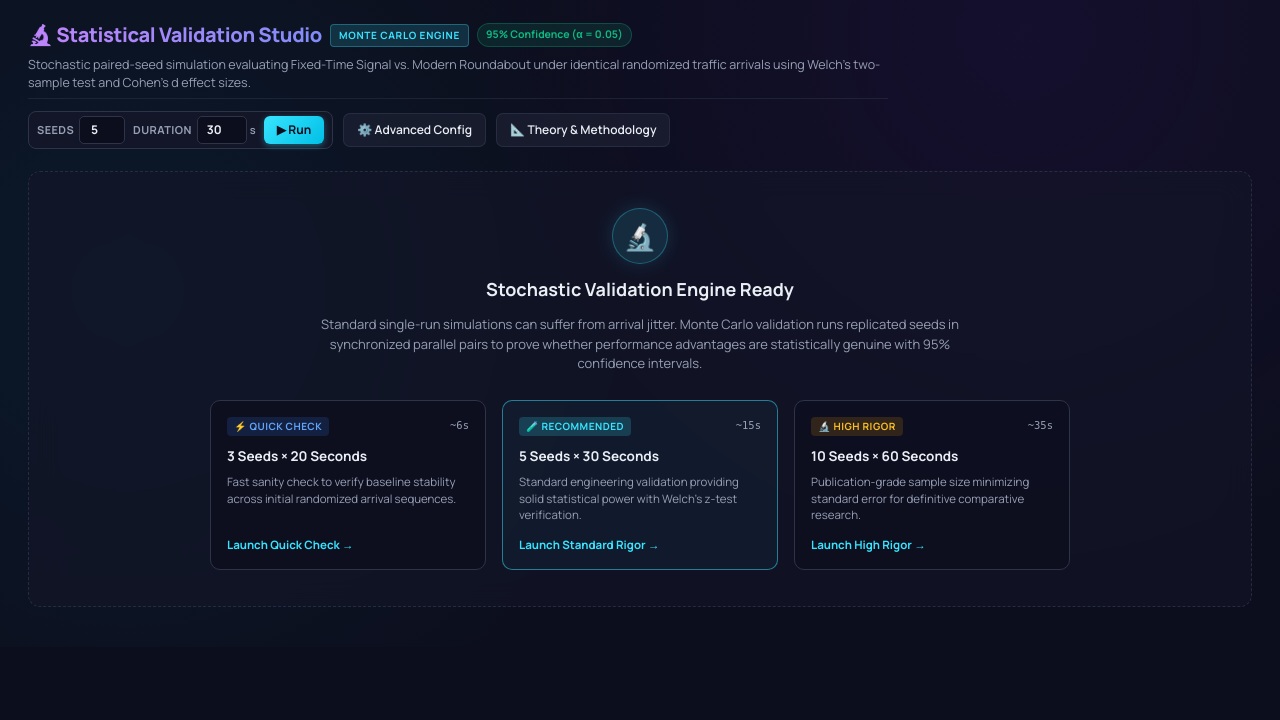
Scenario: ValidationDashboard › shows loading state after clicking Run Validation
Click the button titled "Execute Monte Carlo validation": [294, 130] box [264,116,324,144]
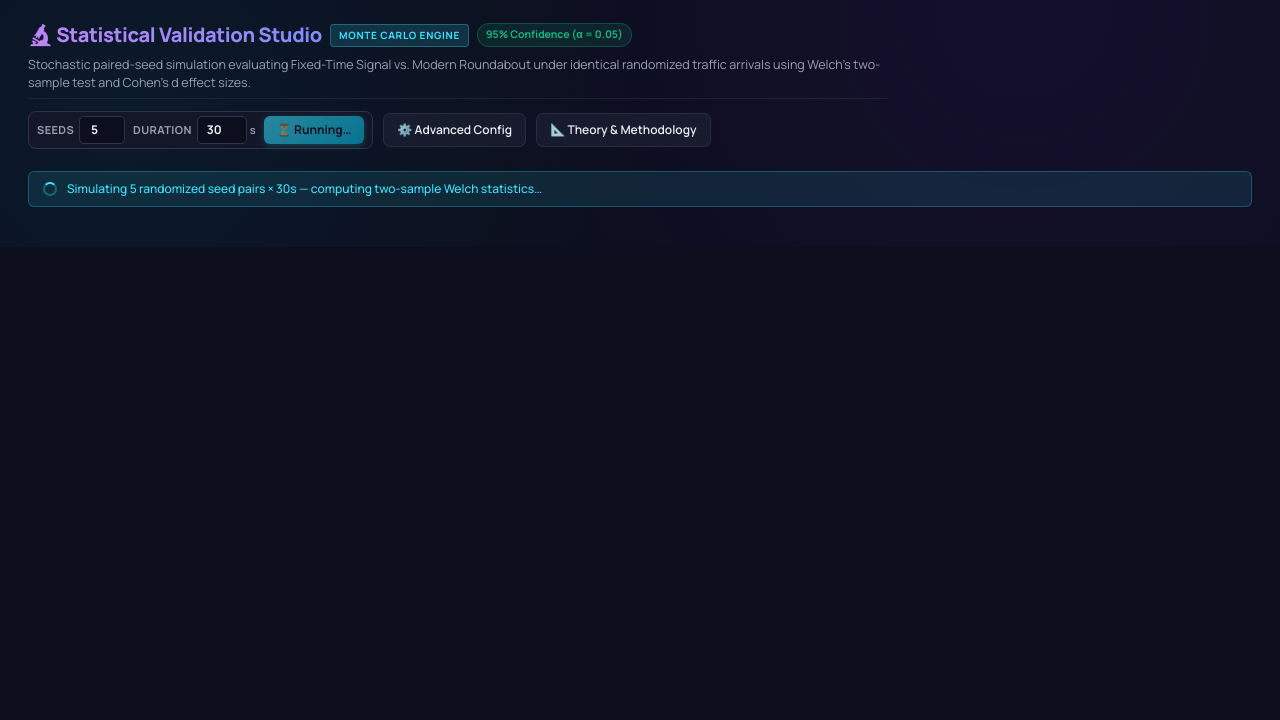
Check: the text "computing two-sample Welch statistics" is shown, box [290,180,542,197]
Check: the button "⏳ Running…" is disabled, box [264,116,364,144]
